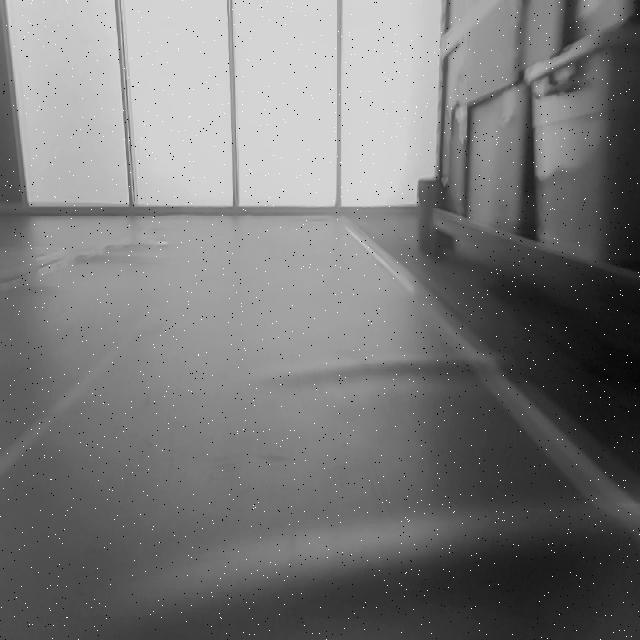left_lane: (0, 268, 204, 482)
right_lane: (343, 226, 639, 540)
